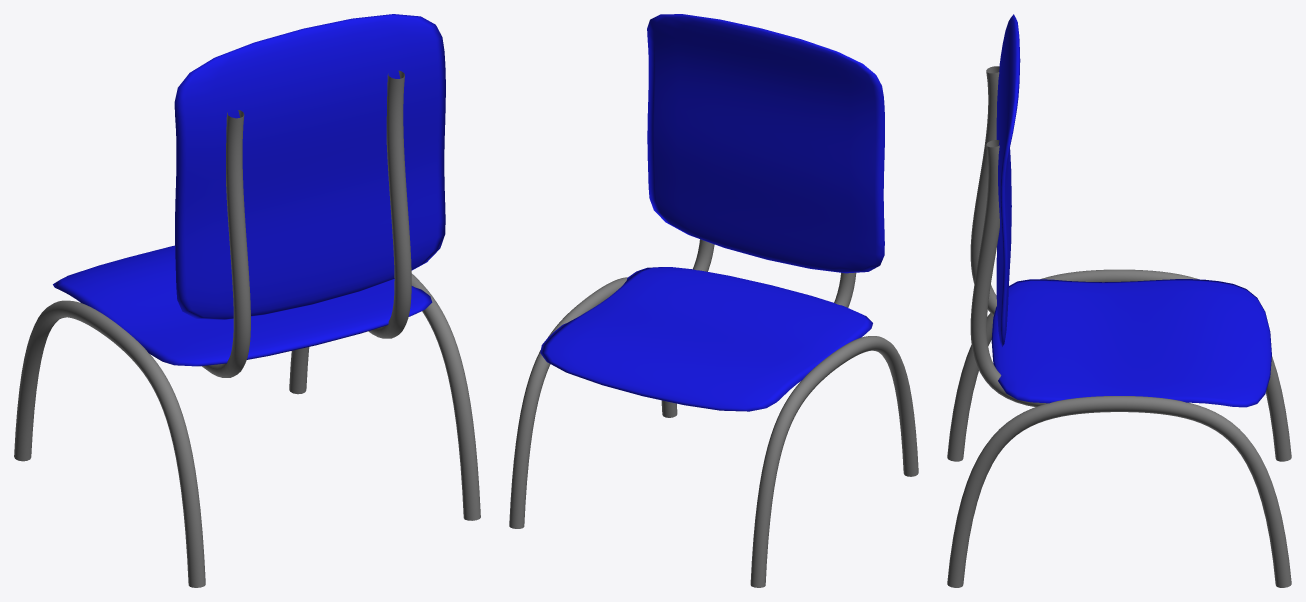
File: SillaCafe.fbx
3 views of the same model, side by side, from view 1: azimuth 30°, elevation 25°; view 2: azimuth 150°, elevation 25°; view 3: azimuth 270°, elevation 25° (orthographic). The views are drawn at different scales.
Visible parts, largest first — view 1: NurbsPath; view 2: NurbsPath; view 3: NurbsPath.
Boxes of the visible parts, bbox=[...] form: NurbsPath: bbox=[14, 14, 480, 587]; NurbsPath: bbox=[509, 14, 918, 587]; NurbsPath: bbox=[947, 14, 1291, 587].
Size of the model in its own units: 233 by 383 by 255.
